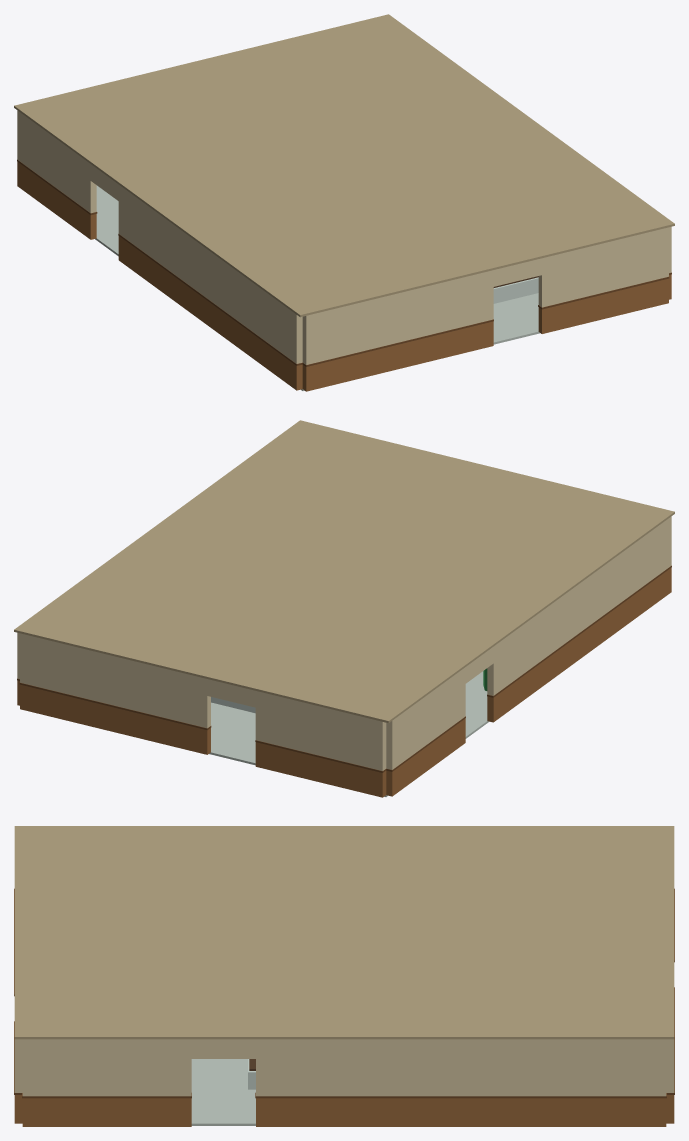
The model's file is room_botany_greenhouse.glb.
The picture shows the model from 3 angles, top to bottom: view 1: azimuth 30°, elevation 25°; view 2: azimuth 150°, elevation 25°; view 3: azimuth 270°, elevation 25°; orthographic projection. The views are drawn at different scales.
Parts seen in each view (by area): view 1: room_botany_greenhouse; view 2: room_botany_greenhouse; view 3: room_botany_greenhouse.
Part boxes in pixels (bbox=[...]): room_botany_greenhouse: bbox=[14, 14, 674, 391]; room_botany_greenhouse: bbox=[14, 420, 674, 797]; room_botany_greenhouse: bbox=[14, 826, 674, 1126].
Bounding box in the file's own units: 18.62 × 3.8 × 24.64.
Materials: 1 (1 with a texture image).
